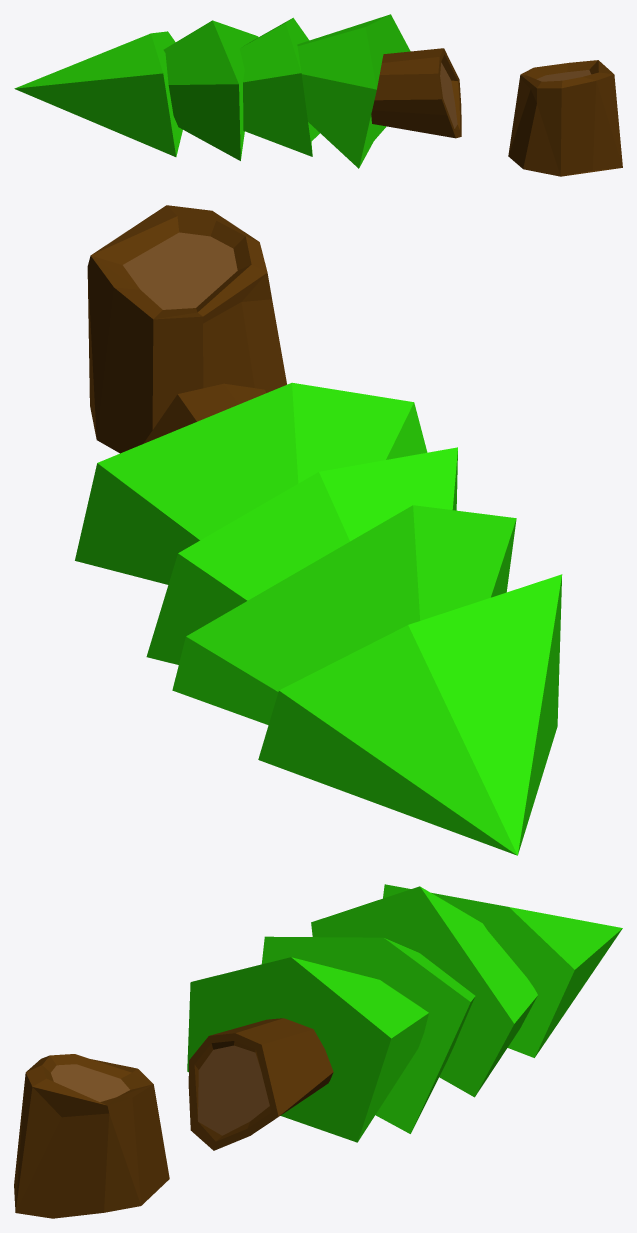
Rendered from Pine tree#8.fbx.
3 views of the same model, one above another, from view 1: azimuth 30°, elevation 25°; view 2: azimuth 150°, elevation 25°; view 3: azimuth 270°, elevation 25° (orthographic). The views are drawn at different scales.
Visible parts, largest first — view 1: Pine tree#8; view 2: Pine tree#8; view 3: Pine tree#8.
Boxes of the visible parts, <box> form: Pine tree#8: <box>14,14,622,176</box>; Pine tree#8: <box>75,205,562,855</box>; Pine tree#8: <box>14,884,622,1218</box>.
Size of the model in its own units: 1158 by 321 by 1097.
